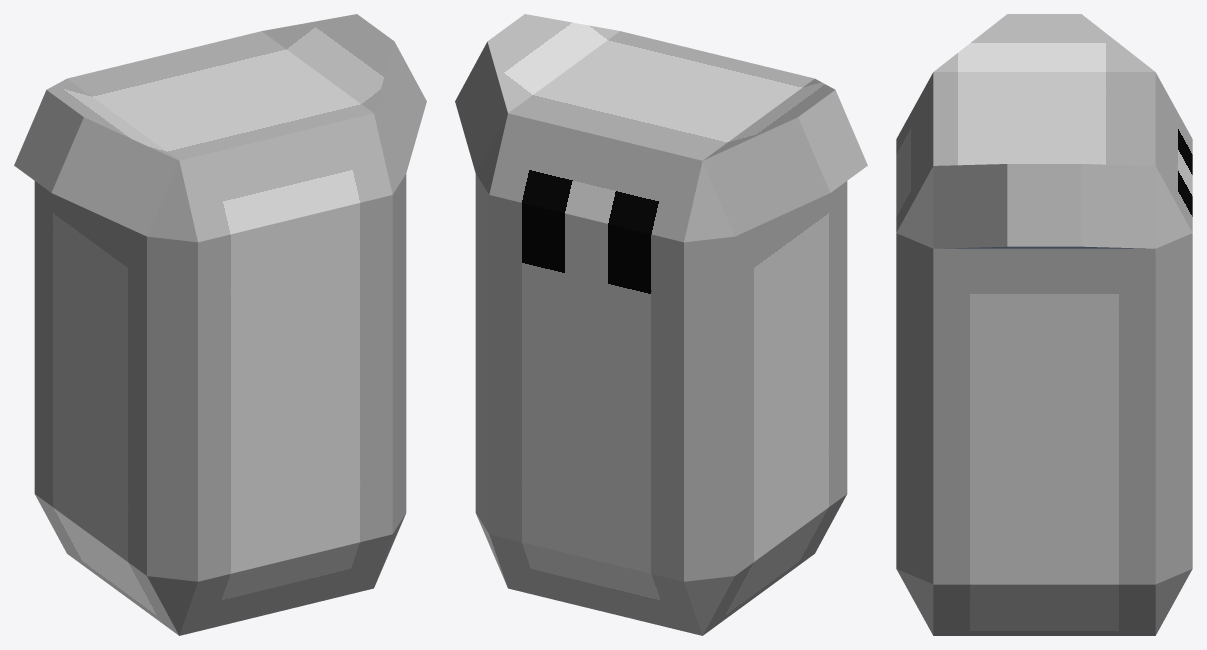
Rendered from white_king.glb.
The picture shows the model from 3 angles, left to right: view 1: azimuth 30°, elevation 25°; view 2: azimuth 150°, elevation 25°; view 3: azimuth 270°, elevation 25°; orthographic projection.
Parts seen in each view (by area): view 1: beveled_cuboid; view 2: beveled_cuboid; view 3: beveled_cuboid.
Part boxes in pixels (x1,y1,x2,y2): beveled_cuboid: (14,14,426,635); beveled_cuboid: (455,14,867,635); beveled_cuboid: (896,14,1192,635).
Bounding box in the file's own units: 0.5427 × 0.6982 × 0.375.
1 material, 1 textured.
